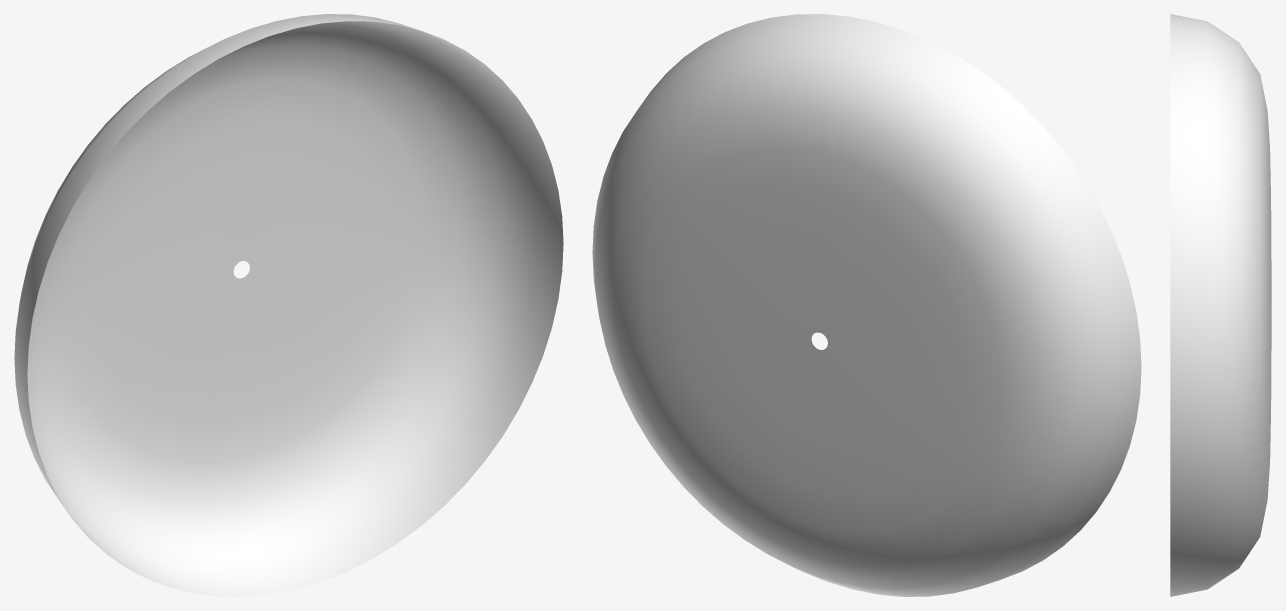
File: FX_TransRing_Mask.fbx
3 renders of one model, left to right at view 1: azimuth 30°, elevation 25°; view 2: azimuth 150°, elevation 25°; view 3: azimuth 270°, elevation 25°, orthographic. The views are drawn at different scales.
Parts seen in each view (by area): view 1: TransRingMesh; view 2: TransRingMesh; view 3: TransRingMesh.
Part boxes in pixels (box(x1,y1,x2,y2)): TransRingMesh: box(14, 14, 563, 596); TransRingMesh: box(592, 14, 1141, 596); TransRingMesh: box(1170, 14, 1271, 596).
Bounding box in the file's own units: 24 × 24 × 4.16.
